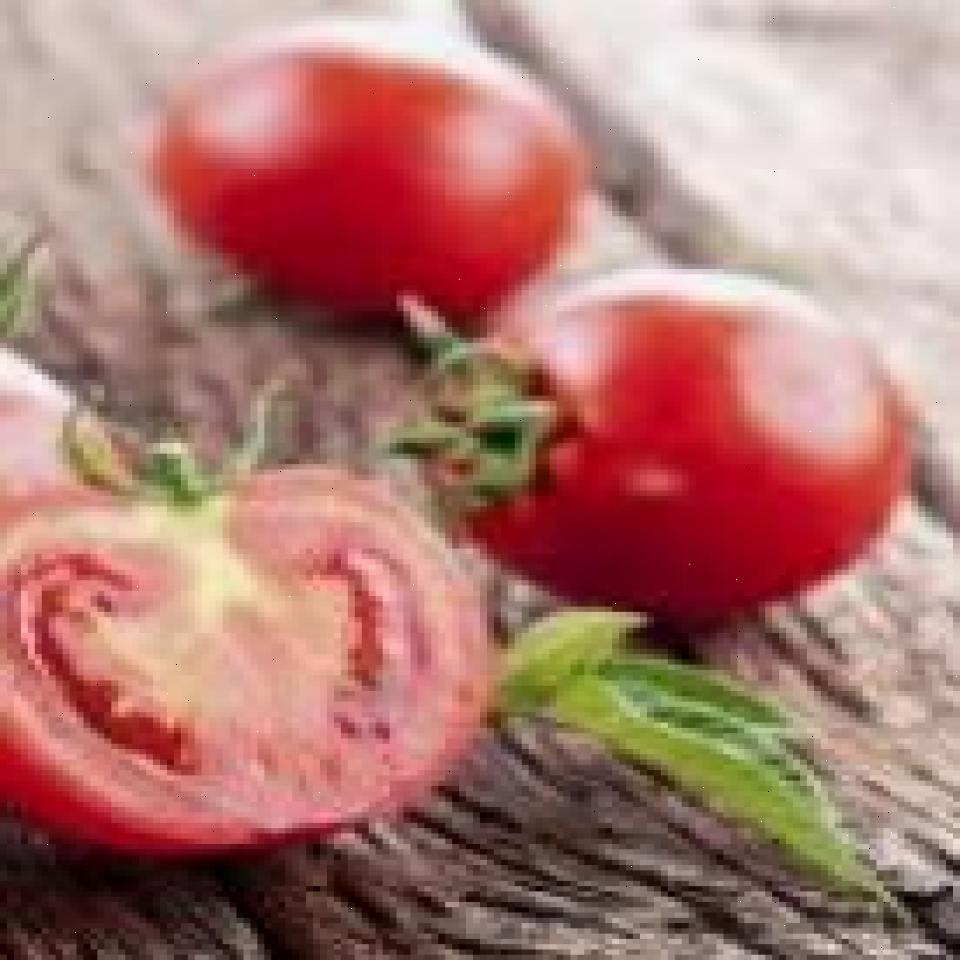Healthy: (413, 254, 923, 613), (153, 25, 584, 291)
